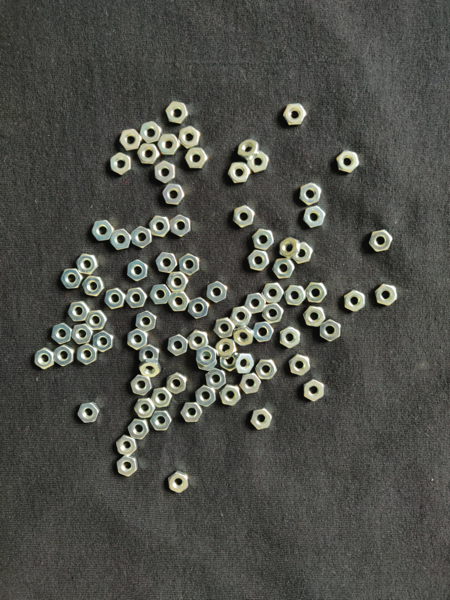nut: (335, 149, 360, 174), (374, 282, 399, 307), (165, 100, 189, 125), (282, 103, 308, 126), (184, 147, 210, 170), (245, 151, 271, 174), (368, 229, 394, 252), (157, 133, 181, 157), (298, 182, 322, 206), (231, 205, 255, 229), (155, 251, 179, 275), (236, 138, 261, 161), (245, 249, 270, 272), (66, 300, 92, 322), (76, 402, 102, 424), (139, 121, 163, 144), (109, 152, 132, 176), (153, 160, 176, 184), (162, 183, 186, 206), (252, 228, 276, 251), (178, 253, 202, 276), (75, 253, 99, 276), (81, 275, 105, 298), (206, 280, 229, 304), (115, 434, 139, 457), (343, 289, 367, 312), (289, 353, 312, 377), (204, 367, 227, 391), (119, 128, 142, 151), (178, 126, 201, 149), (303, 206, 326, 229), (109, 229, 132, 252), (135, 310, 158, 333), (130, 373, 153, 396), (166, 334, 189, 357), (305, 281, 328, 304), (319, 319, 342, 342), (302, 379, 325, 402), (219, 384, 242, 407), (194, 385, 217, 408), (228, 162, 252, 184), (291, 241, 313, 265), (272, 258, 296, 280), (127, 259, 149, 283), (187, 328, 209, 352), (149, 410, 173, 432), (60, 268, 85, 289), (105, 287, 126, 312), (170, 214, 192, 237), (148, 215, 170, 238), (92, 219, 114, 242), (130, 226, 153, 248), (166, 271, 189, 293), (92, 331, 115, 353), (127, 328, 149, 351), (33, 347, 55, 370), (180, 402, 203, 424), (167, 471, 189, 494), (283, 284, 306, 306), (244, 293, 267, 315), (303, 305, 326, 327), (279, 326, 301, 349), (250, 408, 273, 430), (256, 358, 278, 381), (124, 288, 148, 309), (84, 310, 108, 331), (166, 371, 187, 395), (213, 318, 237, 339), (187, 297, 209, 319), (52, 323, 74, 345), (138, 343, 160, 365), (53, 345, 75, 367), (230, 306, 252, 328), (233, 353, 255, 375), (137, 144, 160, 165), (279, 236, 300, 259), (149, 285, 172, 306), (71, 324, 94, 345), (76, 344, 99, 365), (116, 456, 139, 477), (261, 283, 284, 304), (262, 303, 285, 324), (166, 292, 190, 312), (134, 398, 156, 419), (128, 419, 150, 440), (151, 387, 173, 408), (233, 326, 255, 347), (253, 322, 275, 343), (239, 374, 261, 395), (196, 345, 217, 367), (138, 359, 162, 378), (216, 338, 238, 358), (196, 352, 218, 372), (220, 353, 240, 372)
